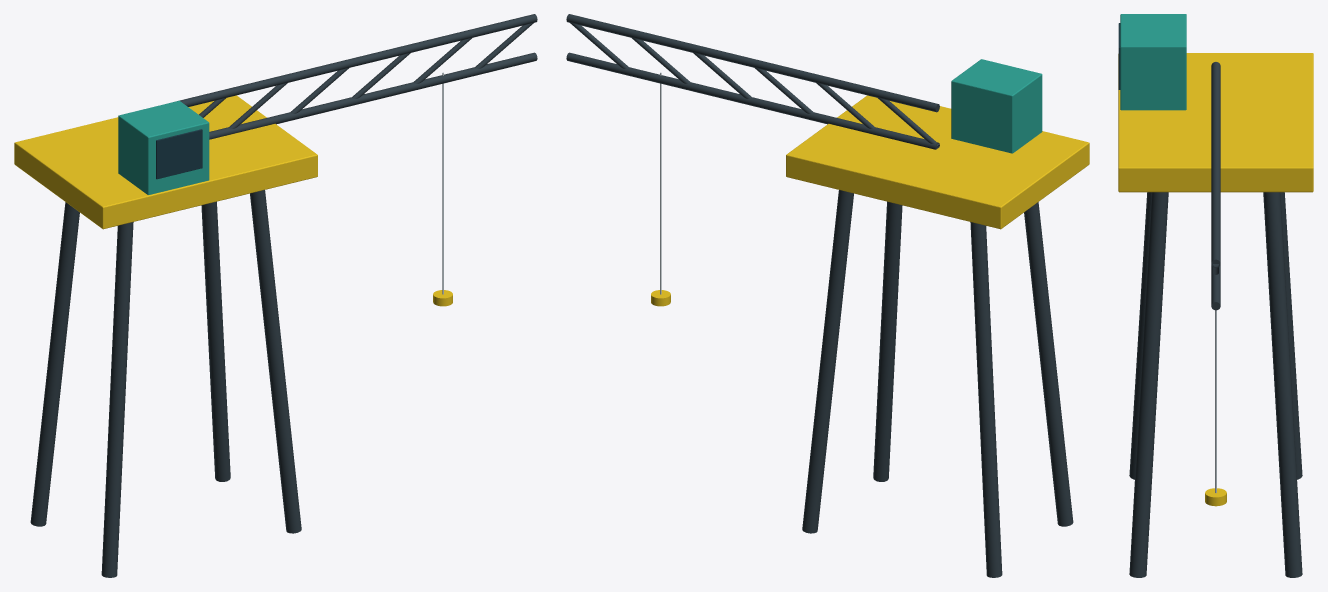
File: harbor-crane.glb
3 renders of one model, left to right at view 1: azimuth 30°, elevation 25°; view 2: azimuth 150°, elevation 25°; view 3: azimuth 270°, elevation 25°, orthographic. The views are drawn at different scales.
Parts seen in each view (by area): view 1: DC_Mesh_DC_Steel, DC_Mesh_DC_Yellow, DC_Mesh_DC_Teal, DC_Mesh_DC_BlueGlass; view 2: DC_Mesh_DC_Steel, DC_Mesh_DC_Yellow, DC_Mesh_DC_Teal; view 3: DC_Mesh_DC_Yellow, DC_Mesh_DC_Steel, DC_Mesh_DC_Teal, DC_Mesh_DC_Silver.
Boxes of the visible parts, box(x1,y1,x2,y2) form: DC_Mesh_DC_Steel: box(30, 14, 537, 577); DC_Mesh_DC_Yellow: box(14, 95, 452, 306); DC_Mesh_DC_Teal: box(118, 100, 209, 194); DC_Mesh_DC_BlueGlass: box(156, 129, 202, 179); DC_Mesh_DC_Steel: box(566, 14, 1073, 577); DC_Mesh_DC_Yellow: box(651, 95, 1089, 306); DC_Mesh_DC_Teal: box(951, 59, 1042, 153); DC_Mesh_DC_Yellow: box(1118, 53, 1313, 506); DC_Mesh_DC_Steel: box(1129, 62, 1302, 577); DC_Mesh_DC_Teal: box(1120, 14, 1186, 110); DC_Mesh_DC_Silver: box(1215, 310, 1216, 492).
Bounding box in the file's own units: 15.54 × 13.57 × 5.
